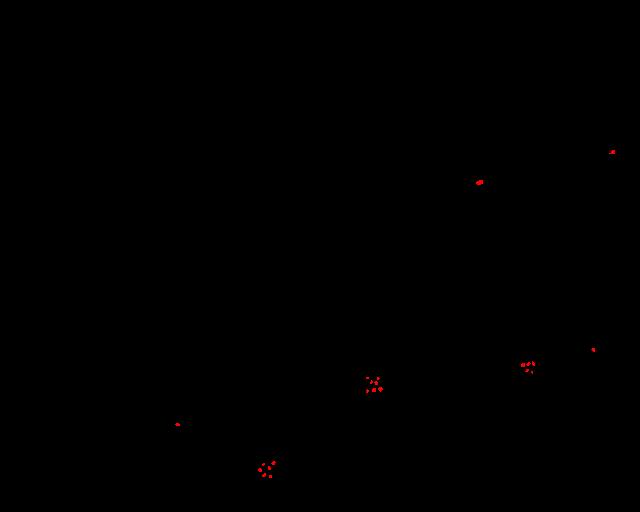Target: (476, 180, 483, 185), (378, 387, 383, 392), (609, 150, 615, 154), (526, 362, 531, 366), (271, 461, 276, 465), (591, 348, 595, 352), (521, 363, 525, 367), (374, 381, 378, 385), (372, 388, 376, 392), (258, 468, 262, 472), (262, 473, 266, 477), (532, 361, 535, 366), (175, 423, 180, 426), (525, 369, 529, 372), (370, 380, 373, 384), (366, 389, 369, 393), (268, 466, 271, 470), (377, 377, 380, 380), (262, 463, 265, 466), (269, 475, 272, 478), (531, 371, 533, 374), (366, 377, 369, 379)
